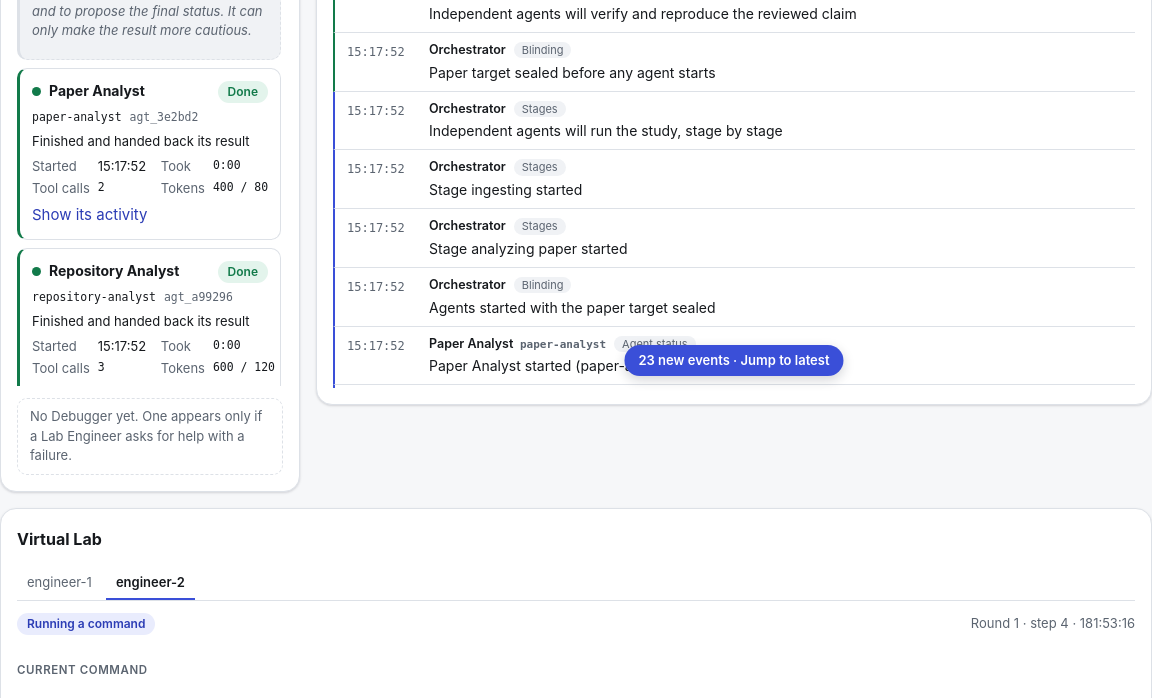
Test: Live Run Dashboard › stops following when the viewer scrolls back, without snapping to new events
(page scrolled)
Click the button "23 new events · Jump to latest": (734, 360) left=624, top=345, right=844, bottom=376
(page scrolled)
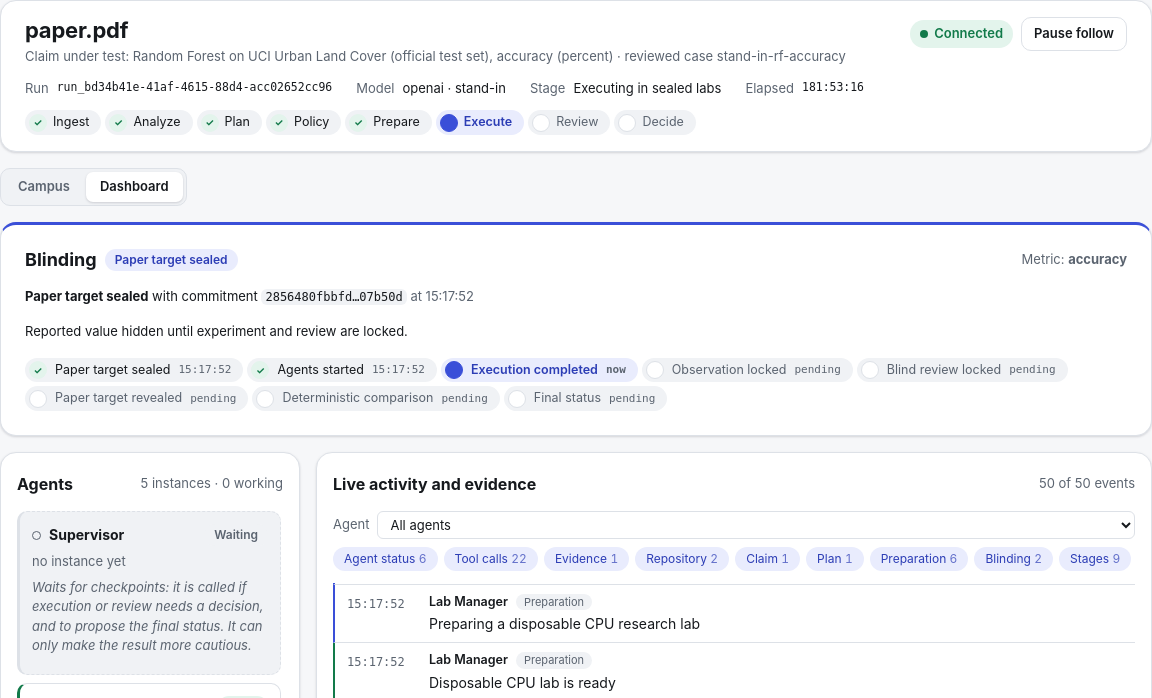
Now the button "Pause follow" is shown, box left=1021, top=17, right=1127, bottom=50
